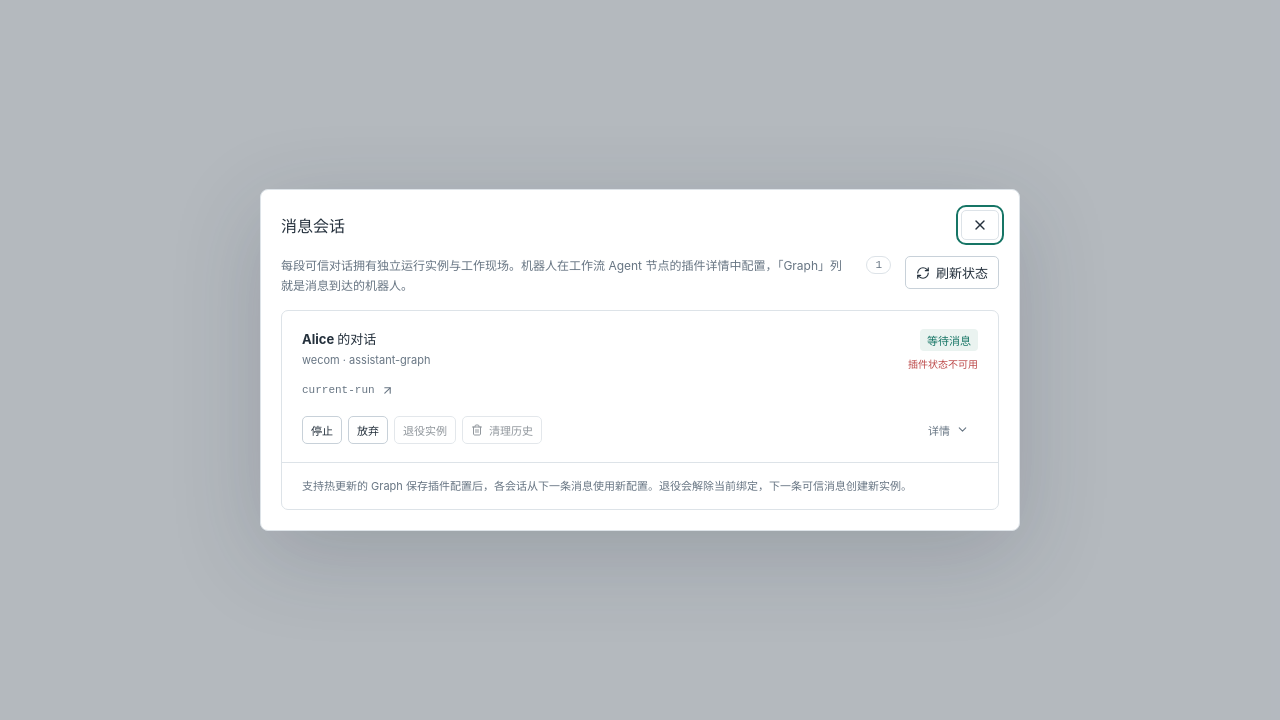
message session management › shows server plugin state unavailable without claiming it has applied
Expected: the message with class "channels-plugin-state" reads "插件状态不可用", [908, 358, 978, 370]
Click the button "详情" at (948, 430), box [919, 416, 978, 444]
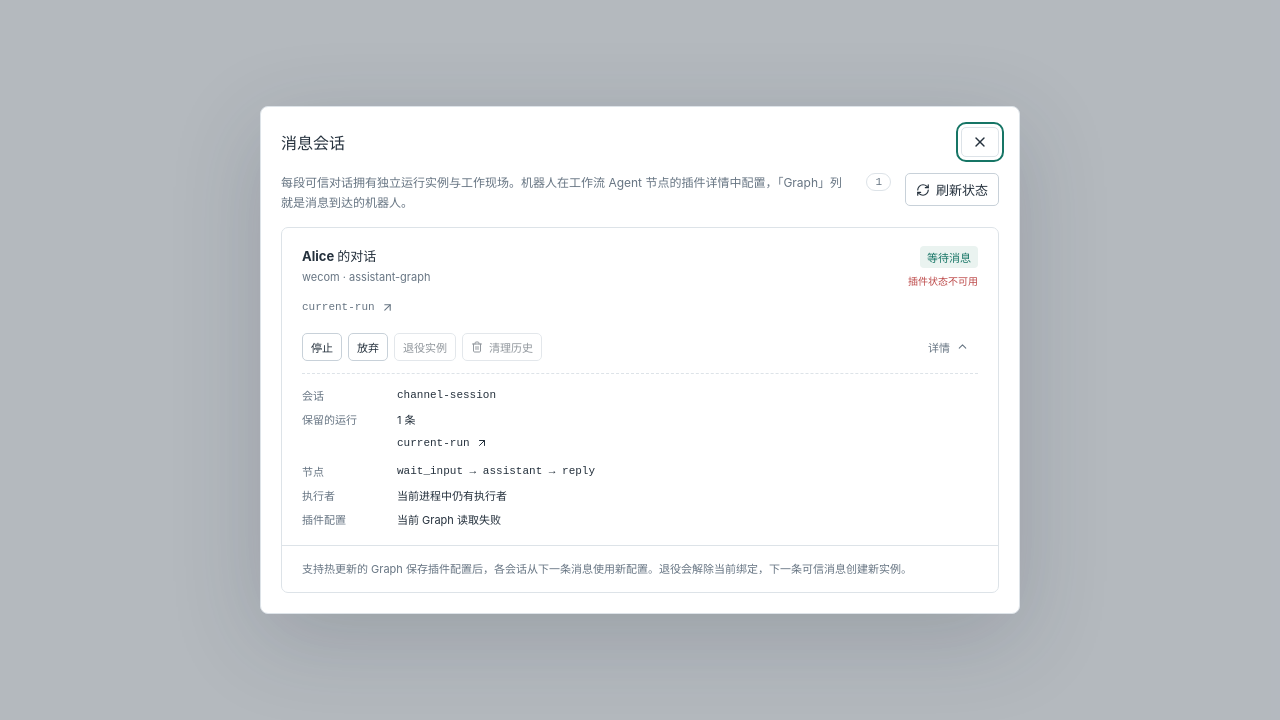
Expected: the element with class "channels-instance-details" shows "当前 Graph 读取失败", [397, 513, 501, 527]
